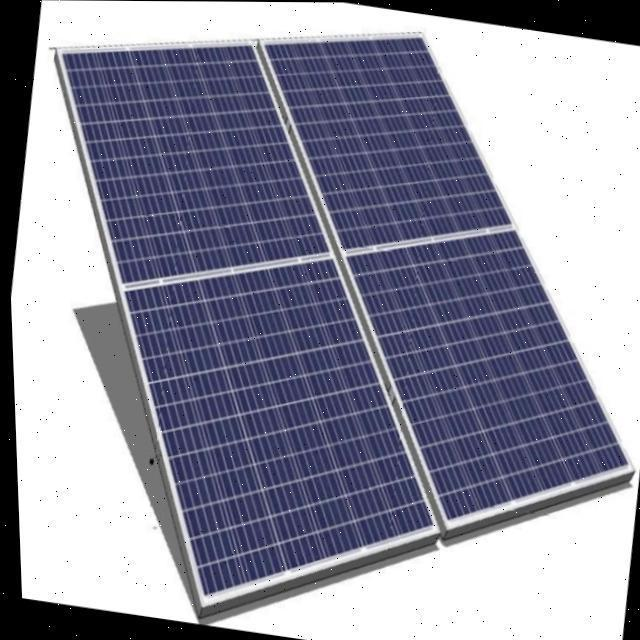Normal Solar Panel: (119, 258, 436, 603), (342, 226, 627, 525), (59, 2, 332, 303), (262, 5, 514, 278)
